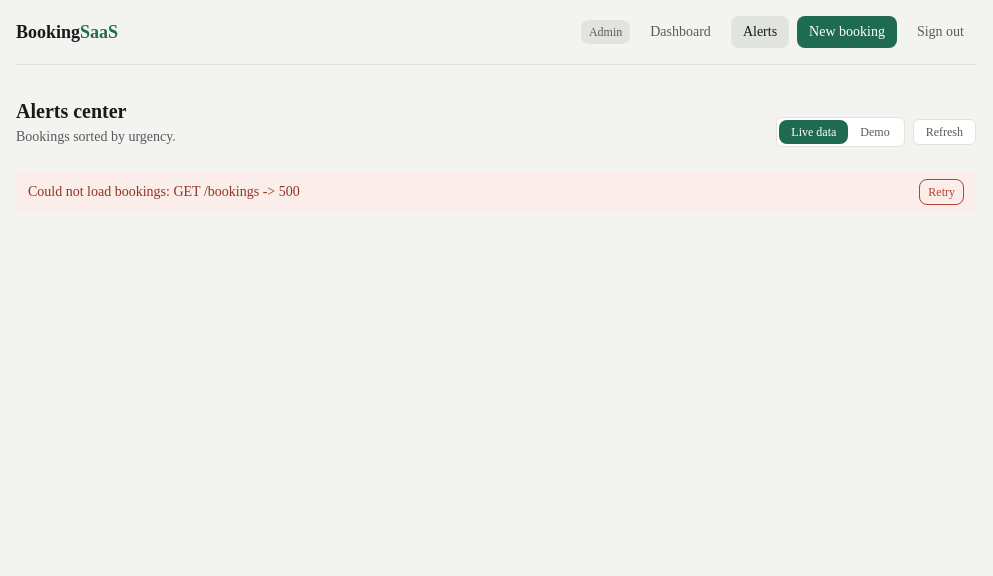
Test: /alerts — real data › shows the API error with a retry that recovers
Expected: the message shows "GET /bookings -> 500", [174,184,300,199]
Click the button "Retry".
click(942, 192)  # box [919,179,964,205]
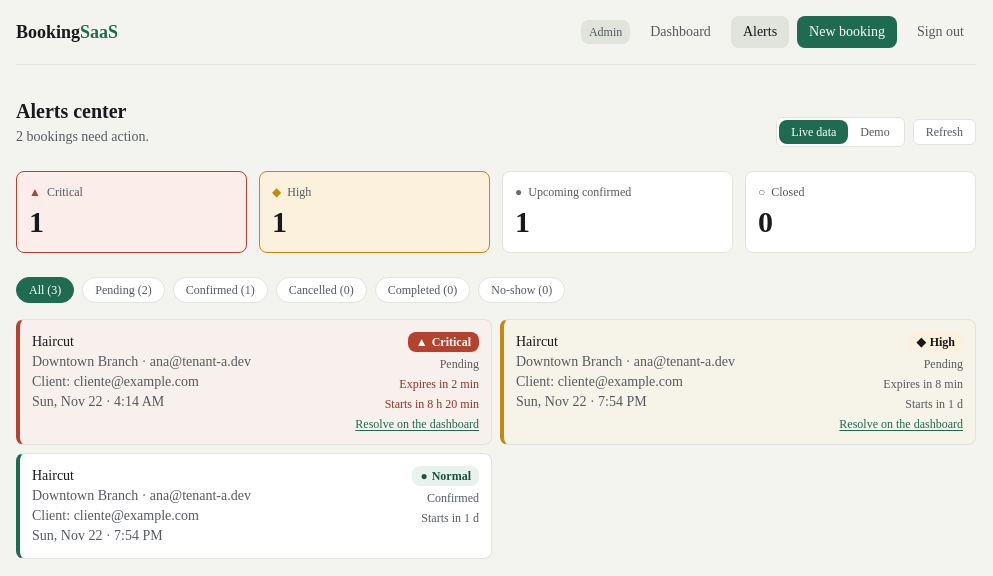
Now the list named "Bookings by urgency" is shown, box [16,319,976,559]
Now the message "Could not load bookings: GET /bookings -> 500 Retry" is gone
